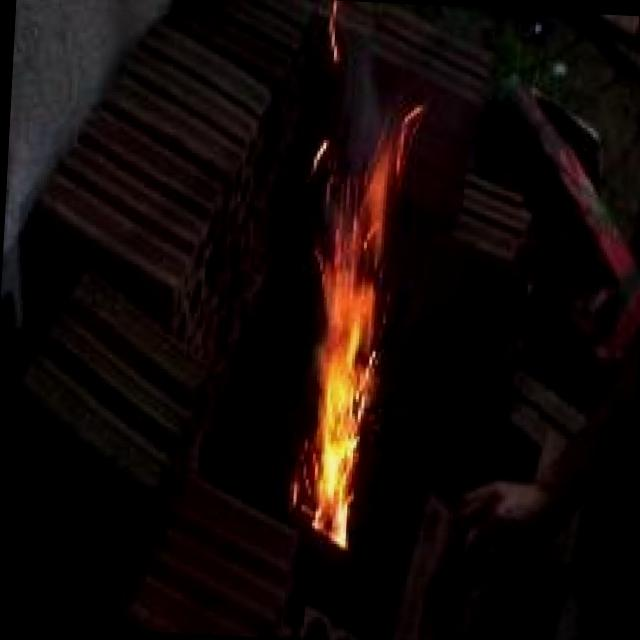fire: (228, 75, 434, 592)
